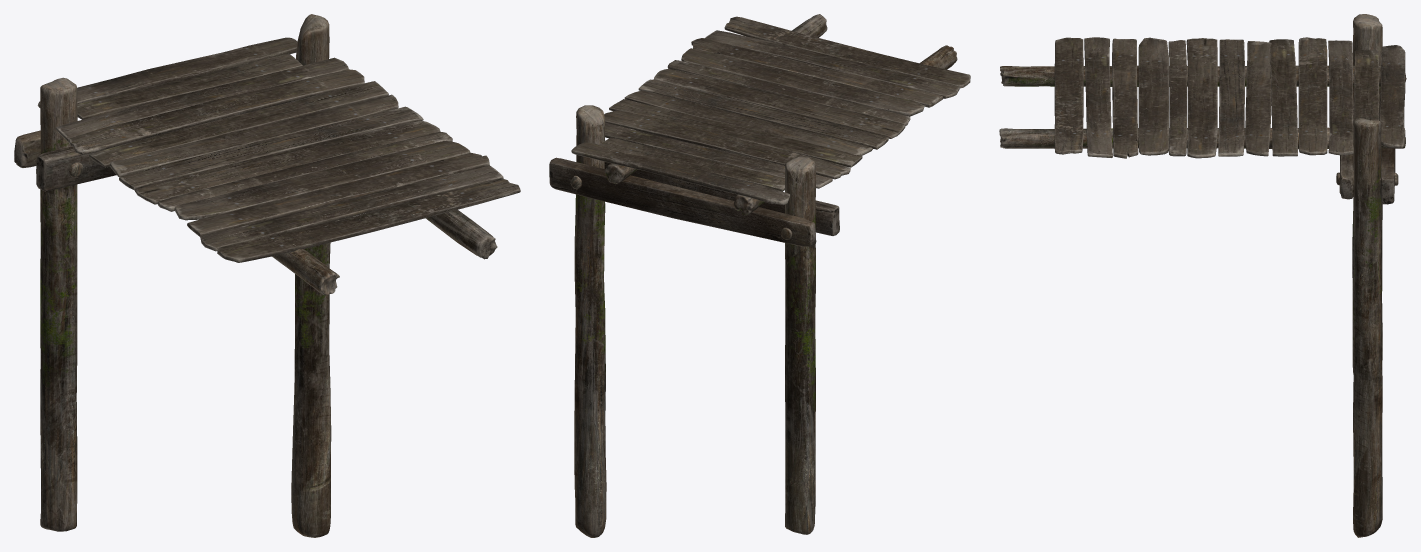
Rendered from modular_wooden_pier_section_02.gltf.
The picture shows the model from 3 angles, left to right: view 1: azimuth 30°, elevation 25°; view 2: azimuth 150°, elevation 25°; view 3: azimuth 270°, elevation 25°; orthographic projection. The views are drawn at different scales.
Visible parts, largest first — view 1: modular_wooden_pier_section_02__x; view 2: modular_wooden_pier_section_02__x; view 3: modular_wooden_pier_section_02__x.
Boxes of the visible parts, bbox=[...] form: modular_wooden_pier_section_02__x: bbox=[14, 14, 520, 537]; modular_wooden_pier_section_02__x: bbox=[549, 14, 970, 537]; modular_wooden_pier_section_02__x: bbox=[999, 14, 1406, 537].
Bounding box in the file's own units: 2.51 × 3.84 × 3.39.
2 materials, 2 textured.
